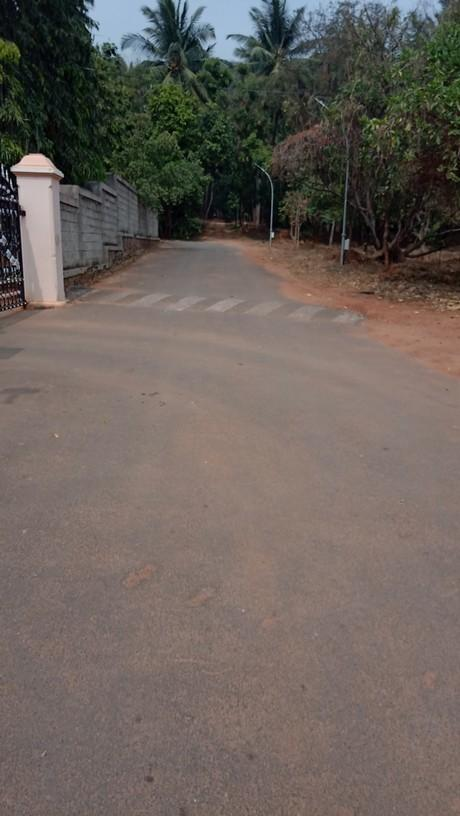speed-bump: (72, 285, 359, 330)
